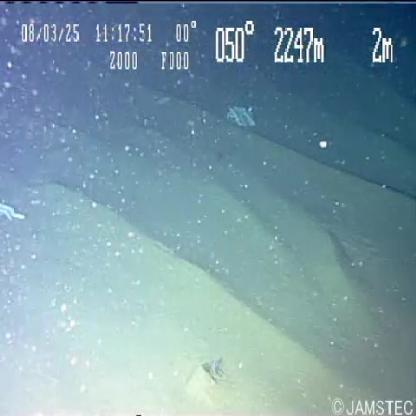Rác: (0, 199, 28, 227)
